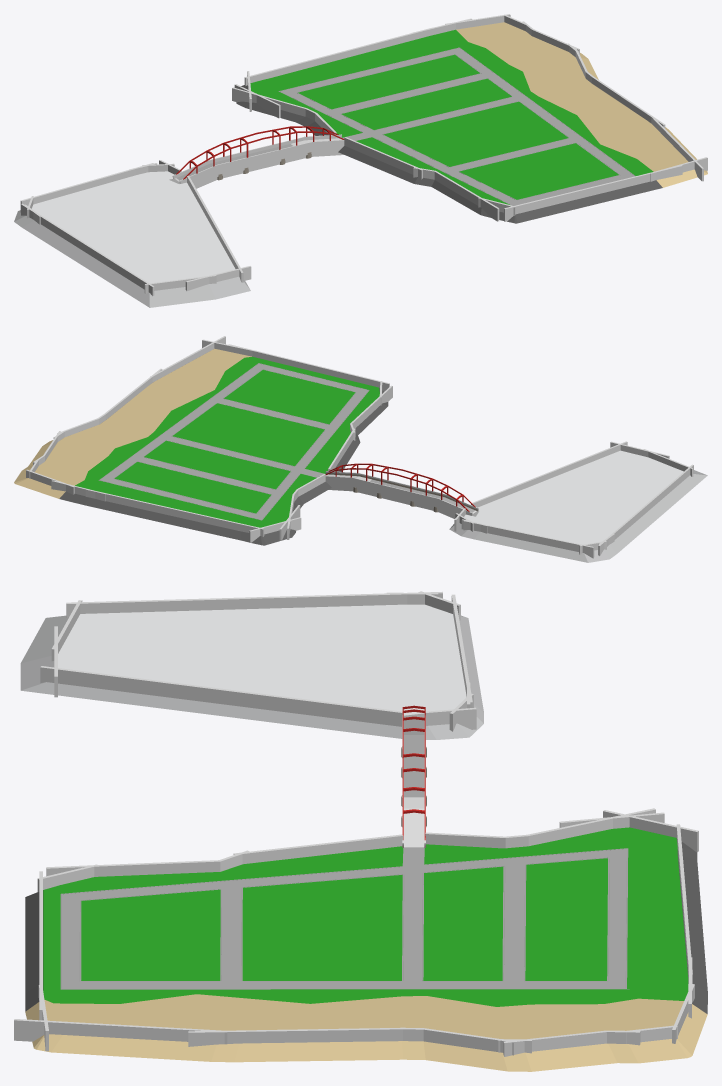
Rendered from map.gltf.
3 views of the same model, one above another, from view 1: azimuth 30°, elevation 25°; view 2: azimuth 150°, elevation 25°; view 3: azimuth 270°, elevation 25° (orthographic). The views are drawn at different scales.
Visible parts, largest first — view 1: noCast, noCast.002, physics.025, physics.043, physics.049, physics.031, Cube, physics.056, physics.021, physics.022, physics.050, physics.051 (+3 smaller); view 2: noCast, noCast.002, physics.043, Cube, physics.050, physics.056, physics.025, physics.030, physics.049, physics.027, physics.044, physics.022 (+1 smaller); view 3: noCast, noCast.002, physics.050, physics.049, physics.028, physics.027, physics.021, physics.022, noCast.001, physics.038, physics.047, physics.036 (+6 smaller).
Part boxes in pixels (left/top/right/bottom): noCast: left=236, top=22, right=707, bottom=223; noCast.002: left=14, top=171, right=250, bottom=307; physics.025: left=504, top=165, right=682, bottom=221; physics.043: left=244, top=27, right=433, bottom=86; physics.049: left=21, top=203, right=154, bottom=295; physics.031: left=217, top=141, right=311, bottom=175; Cube: left=176, top=126, right=344, bottom=179; physics.056: left=20, top=163, right=153, bottom=212; physics.021: left=344, top=137, right=422, bottom=179; physics.022: left=434, top=171, right=499, bottom=221; physics.050: left=187, top=175, right=243, bottom=282; physics.051: left=185, top=266, right=251, bottom=290; noCast: left=14, top=348, right=388, bottom=545; noCast.002: left=449, top=450, right=707, bottom=562; physics.043: left=85, top=489, right=264, bottom=536; Cube: left=325, top=463, right=477, bottom=511; physics.050: left=471, top=441, right=627, bottom=507; physics.056: left=463, top=520, right=594, bottom=558; physics.025: left=228, top=344, right=389, bottom=391; physics.030: left=352, top=477, right=438, bottom=508; physics.049: left=598, top=464, right=693, bottom=555; physics.027: left=150, top=336, right=225, bottom=382; physics.044: left=249, top=517, right=301, bottom=542; physics.022: left=350, top=385, right=392, bottom=428; noCast: left=25, top=827, right=707, bottom=1071; noCast.002: left=20, top=604, right=483, bottom=739; physics.050: left=40, top=666, right=402, bottom=726; physics.049: left=66, top=591, right=442, bottom=618; physics.028: left=188, top=1027, right=403, bottom=1046; physics.027: left=14, top=1019, right=227, bottom=1044; physics.021: left=233, top=834, right=403, bottom=864; physics.022: left=46, top=860, right=220, bottom=876; noCast.001: left=404, top=719, right=424, bottom=797; physics.038: left=503, top=1030, right=606, bottom=1056; physics.047: left=528, top=808, right=655, bottom=845; physics.036: left=423, top=1028, right=514, bottom=1055.
Bounding box in the file's own units: 650 × 38.92 × 409.
